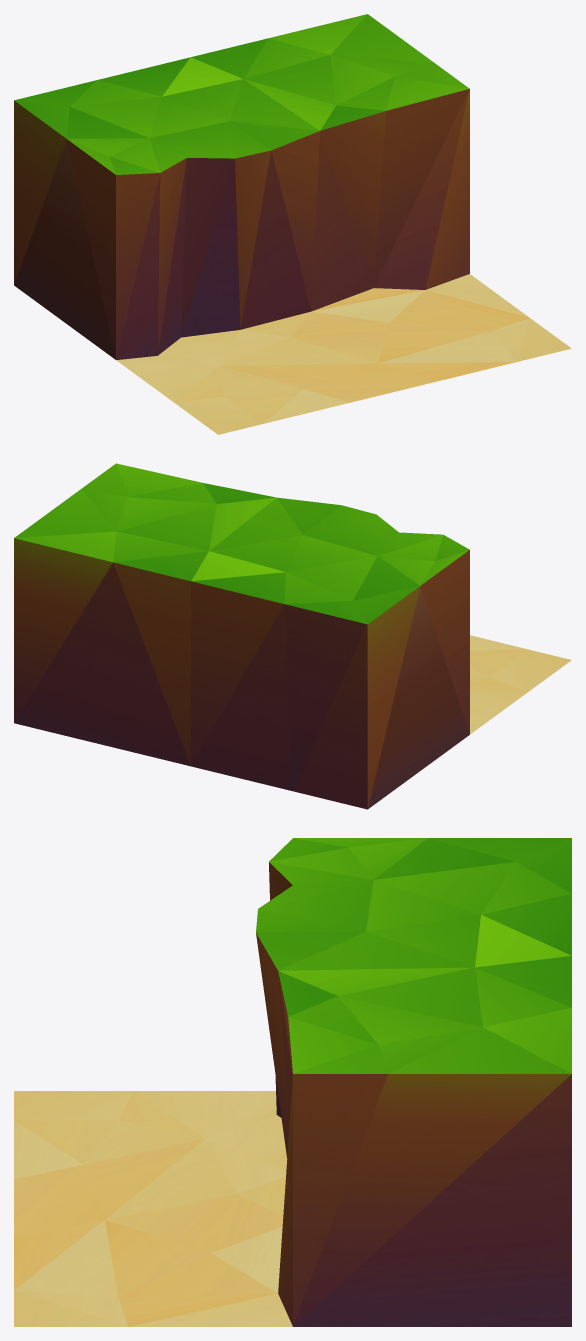
Rendered from GL-Terrain-part-14-LOD3.fbx.
3 renders of one model, top to bottom at view 1: azimuth 30°, elevation 25°; view 2: azimuth 150°, elevation 25°; view 3: azimuth 270°, elevation 25°, orthographic. The views are drawn at different scales.
Visible parts, largest first — view 1: GL_Terrain_part_14; view 2: GL_Terrain_part_14; view 3: GL_Terrain_part_14.
Boxes of the visible parts, x1=… form: GL_Terrain_part_14: x1=14, y1=14, x2=571, y2=434; GL_Terrain_part_14: x1=14, y1=463, x2=571, y2=809; GL_Terrain_part_14: x1=14, y1=838, x2=571, y2=1326.
Size of the model in its own units: 6 by 3 by 6.
